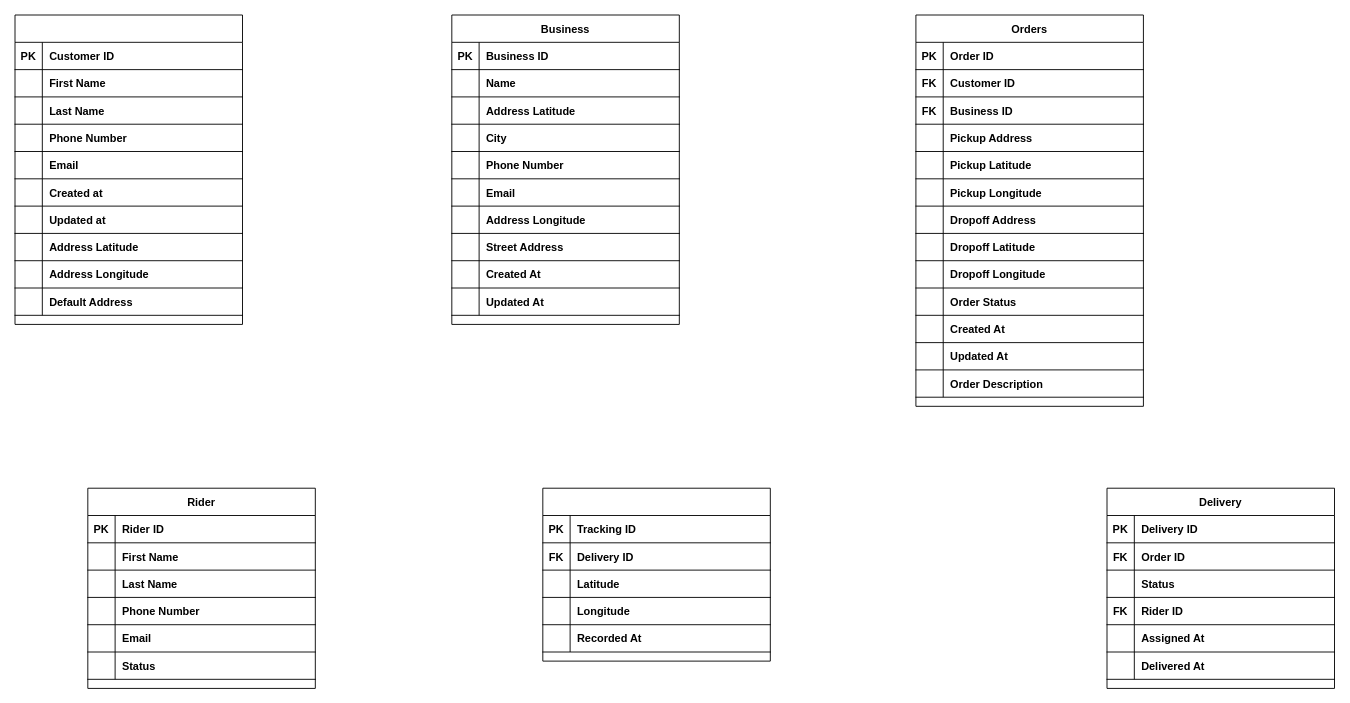
The diagram is 1350 pixels wide and 703 high, and some of its shapes have lost their labels. The box of each missing label's shape, as (x1, y1, x2, y2) in pixels:
Customers: (14, 14, 243, 324)
Tracking Location: (542, 487, 770, 661)
